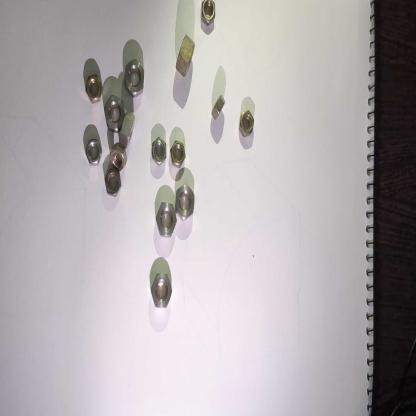NUTS: (153, 199, 181, 247), (122, 56, 148, 100), (176, 31, 198, 77), (174, 182, 197, 225), (150, 270, 172, 314), (104, 93, 126, 134), (116, 114, 138, 151), (106, 141, 129, 175), (236, 107, 257, 143), (83, 72, 105, 105), (149, 133, 168, 171), (103, 167, 123, 202), (84, 136, 103, 172), (168, 136, 186, 174), (210, 92, 228, 127), (198, 2, 219, 30)
